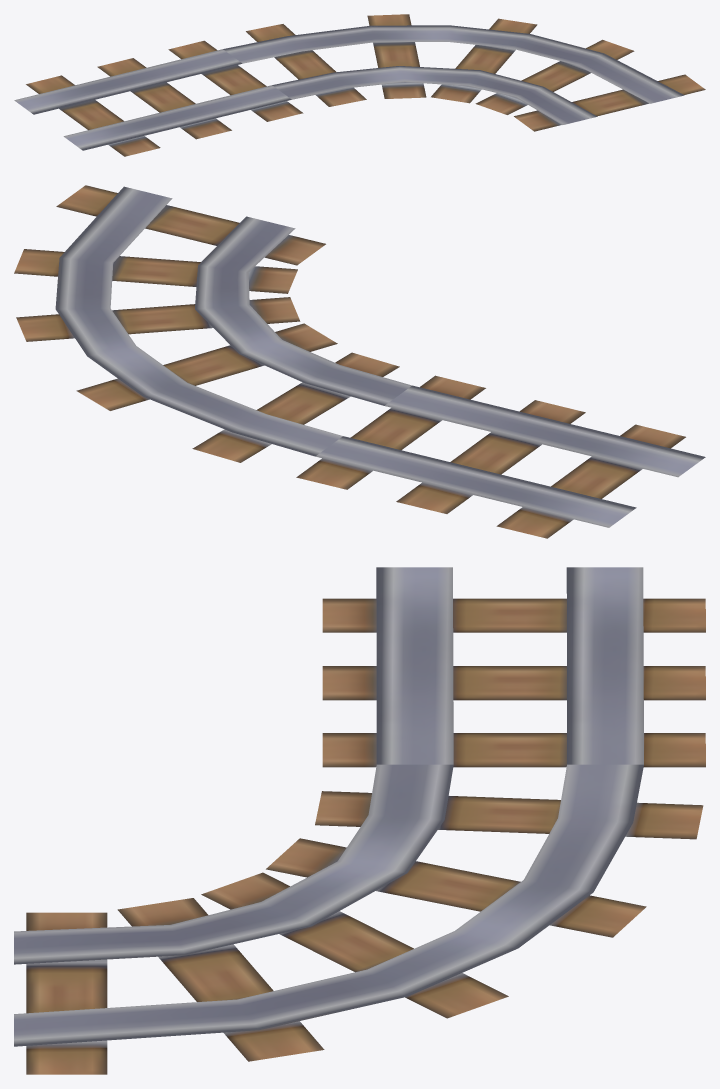
Rendered from field_Buildings_002e.fbx.
3 renders of one model, top to bottom at view 1: azimuth 30°, elevation 25°; view 2: azimuth 150°, elevation 25°; view 3: azimuth 270°, elevation 25°, orthographic. The views are drawn at different scales.
Visible parts, largest first — view 1: field_Buildings_002e; view 2: field_Buildings_002e; view 3: field_Buildings_002e.
Boxes of the visible parts, x1,y1,x2,y2 form: field_Buildings_002e: (14, 14, 705, 156); field_Buildings_002e: (14, 185, 705, 538); field_Buildings_002e: (14, 567, 705, 1074).
Bounding box in the file's own units: 113 × 0.5308 × 65.78.
